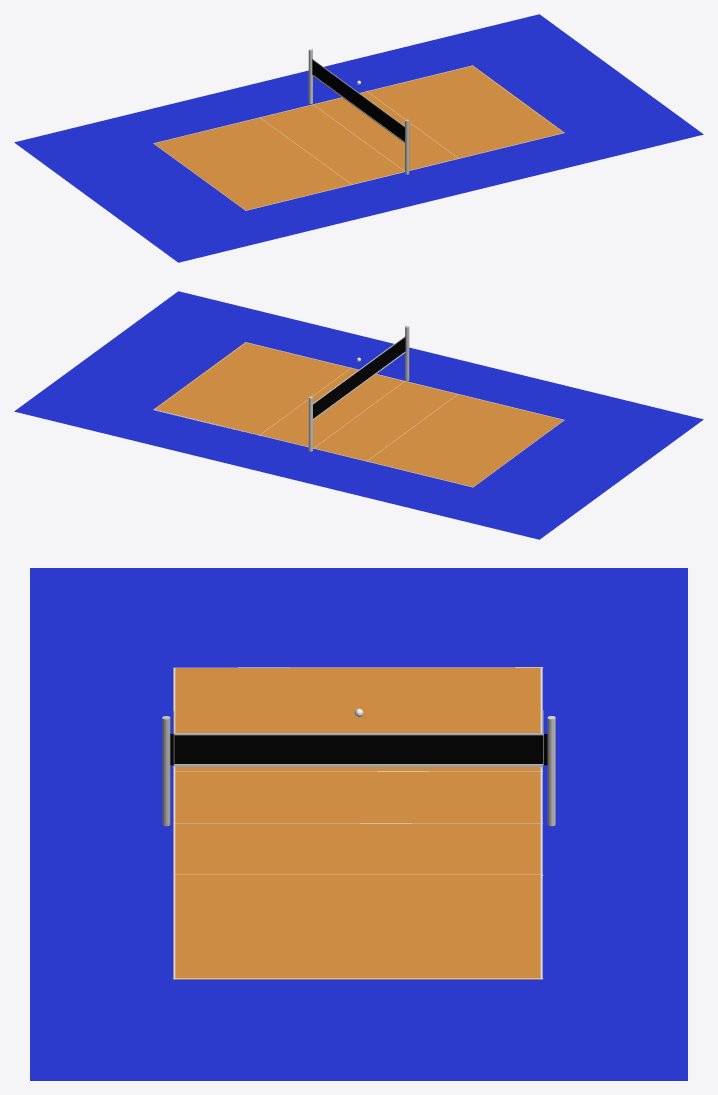
File: court.glb
3 views of the same model, one above another, from view 1: azimuth 30°, elevation 25°; view 2: azimuth 150°, elevation 25°; view 3: azimuth 270°, elevation 25° (orthographic). The views are drawn at different scales.
Parts seen in each view (by area): view 1: Plane.005, Court_Base, Volleyball_Net; view 2: Plane.005, Court_Base, Volleyball_Net; view 3: Plane.005, Court_Base, Volleyball_Net, Top_Band, Bottom_Band, Net_Post_L, Net_Post_R, Plane.010, Plane.011.
Boxes of the visible parts, <box> form: Plane.005: <box>14,14,703,262</box>; Court_Base: <box>154,65,564,210</box>; Volleyball_Net: <box>312,59,404,141</box>; Plane.005: <box>14,291,703,539</box>; Court_Base: <box>154,342,563,486</box>; Volleyball_Net: <box>313,336,405,418</box>; Plane.005: <box>30,568,687,1080</box>; Court_Base: <box>173,667,541,979</box>; Volleyball_Net: <box>170,734,547,765</box>; Top_Band: <box>174,764,543,766</box>; Bottom_Band: <box>174,733,543,735</box>; Net_Post_L: <box>162,716,170,826</box>; Net_Post_R: <box>547,716,555,826</box>; Plane.010: <box>540,667,542,979</box>; Plane.011: <box>173,667,175,979</box>.
Size of what is drawn, in the model's own units: 29.6 by 3.48 by 16.04.
